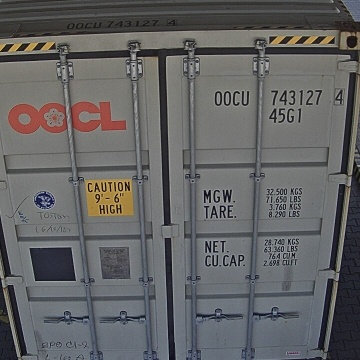serial_id: (214, 88, 344, 105)
